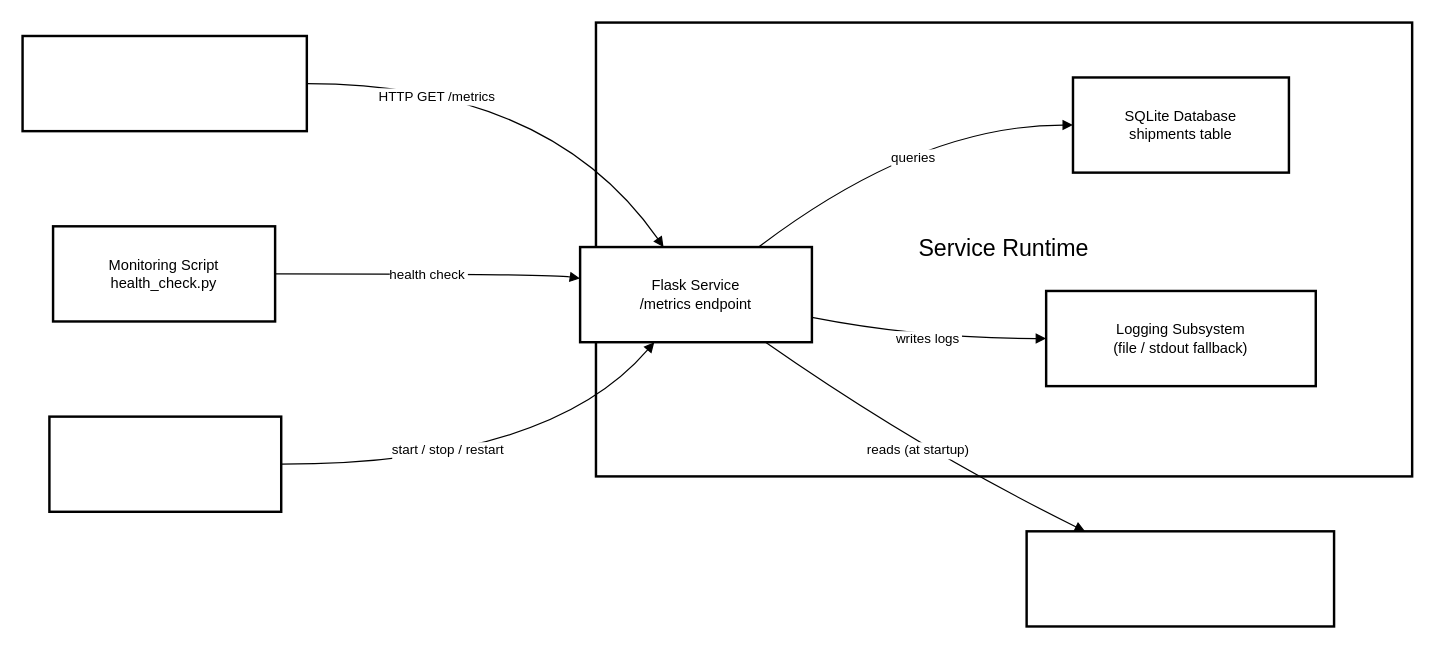
Image size: 1434x648. Some labels were removed from this diagram. The centre of each missing label's shape, as x and y in pixels:
"Automation Script restart_service.sh" belongs at point 165,463.
"Client (curl / browser / script)" belongs at point 164,83.
"Environment Configuration (SERVICE_DB_PATH)" belongs at point 1180,578.
